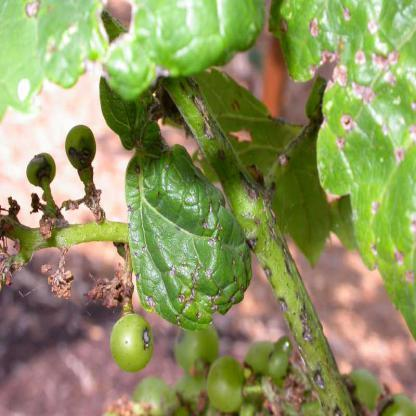grape leaf: (268, 0, 416, 346), (100, 136, 260, 338)
